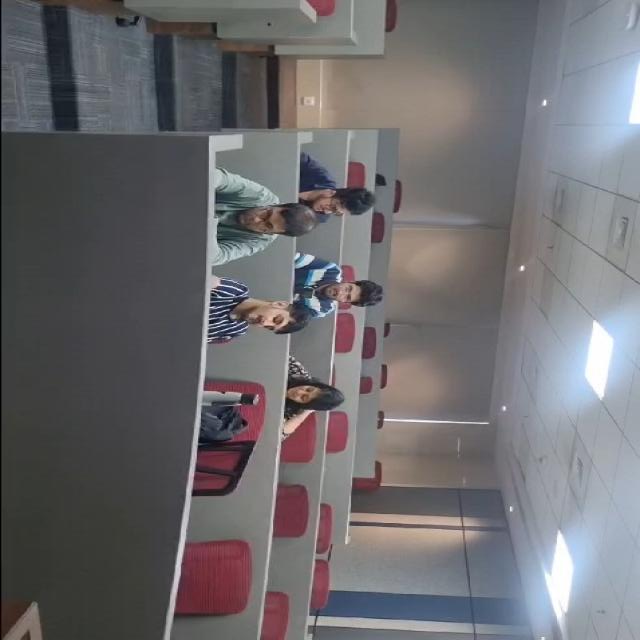cheating: (250, 245, 322, 346), (363, 296, 446, 359), (159, 263, 224, 335)
non-cheating: (182, 328, 262, 431), (290, 326, 346, 435)
